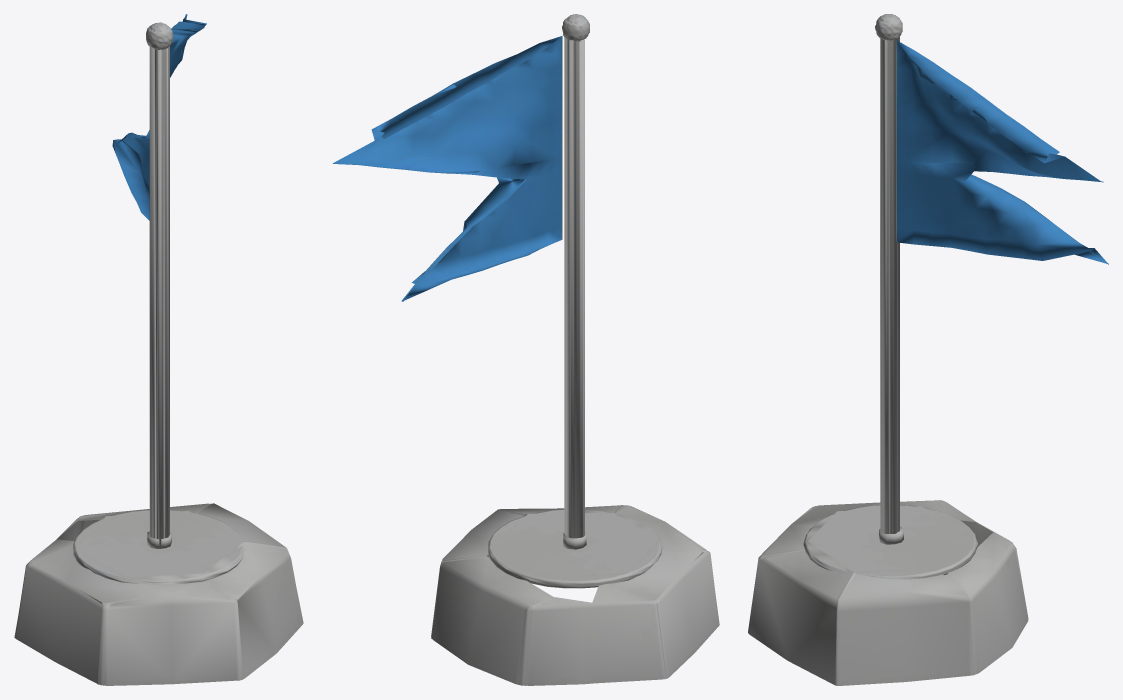
The model's file is flag.glb.
3 renders of one model, left to right at view 1: azimuth 30°, elevation 25°; view 2: azimuth 150°, elevation 25°; view 3: azimuth 270°, elevation 25°, orthographic.
Visible parts, largest first — view 1: flag; view 2: flag; view 3: flag.
Boxes of the visible parts, x1,y1,x2,y2 form: flag: (14, 14, 303, 685); flag: (333, 14, 719, 685); flag: (748, 14, 1108, 685).
Size of the model in its own units: 0.4325 by 1 by 0.5342.
Materials: 1 (1 with a texture image).
